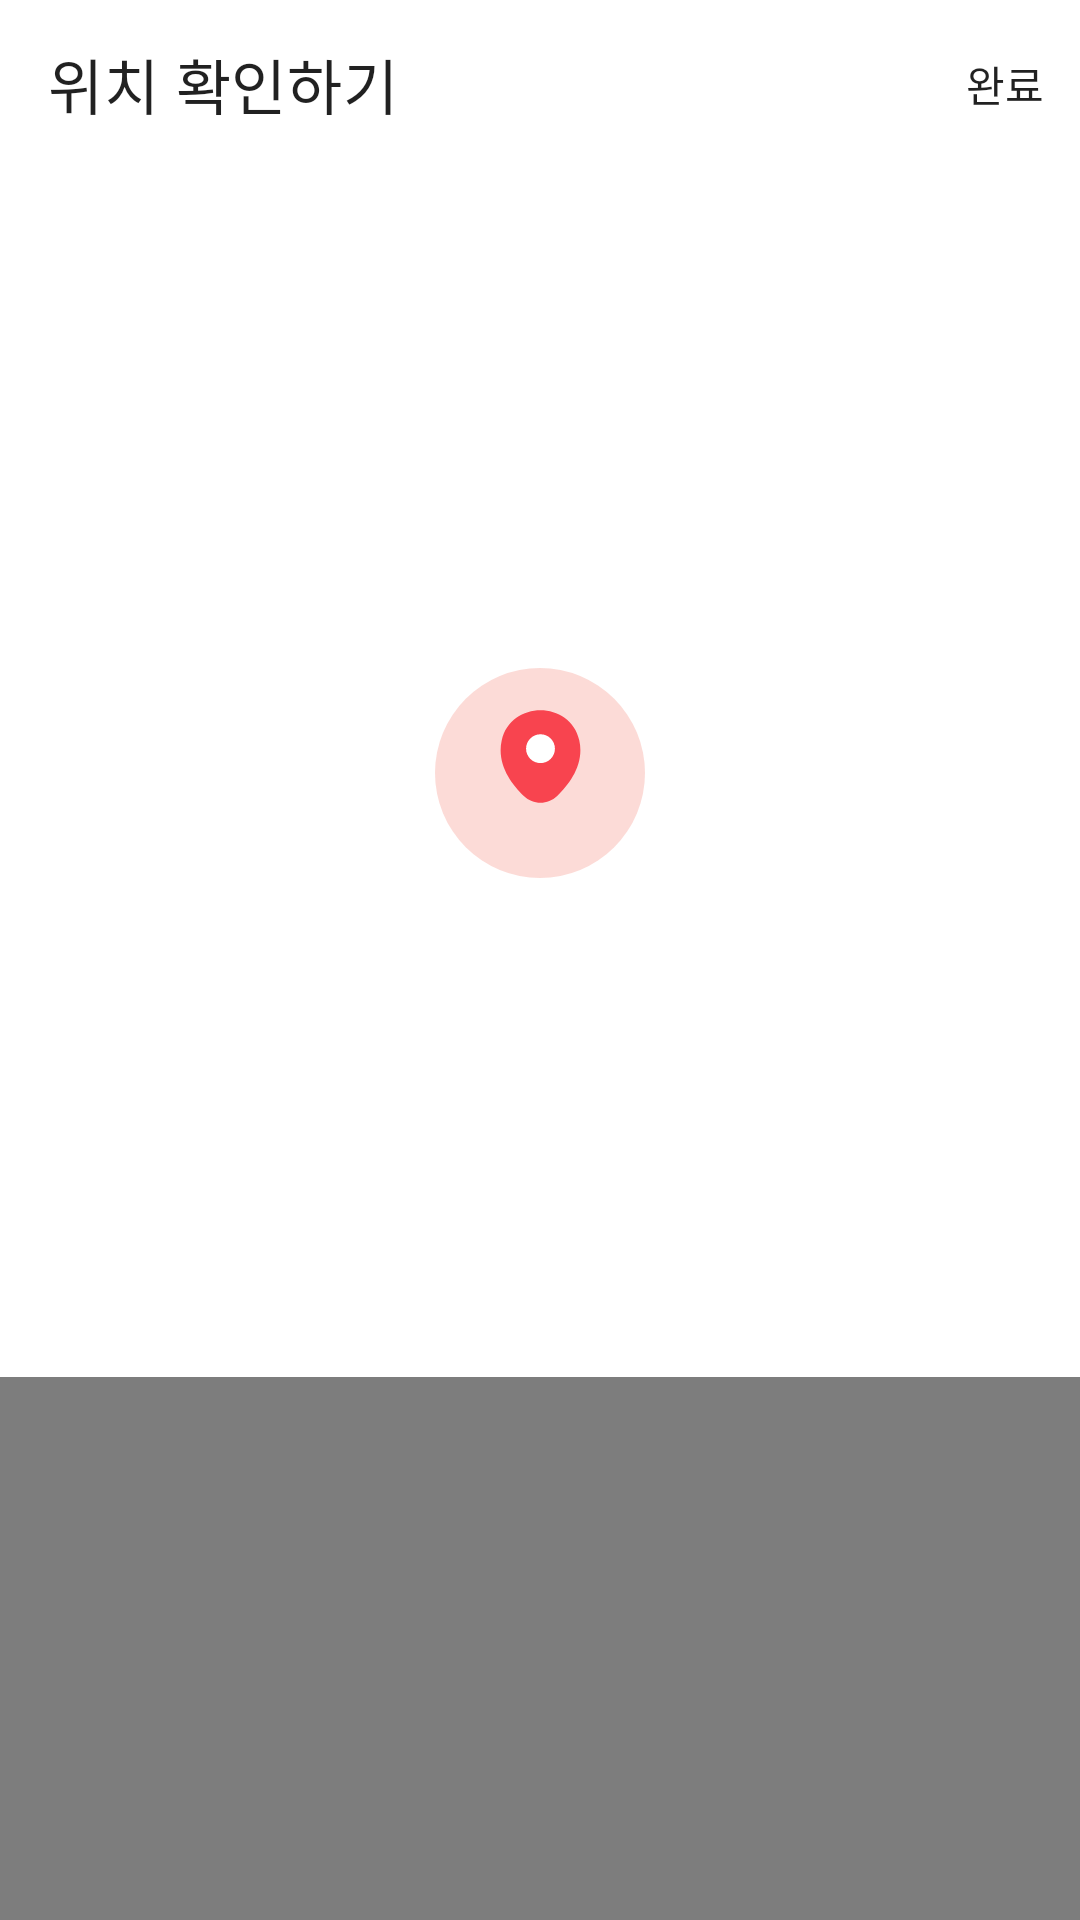

Screen size 1080×1920. Icon name, then its center in pixels as point (x, y):
marker: point (540, 756)
